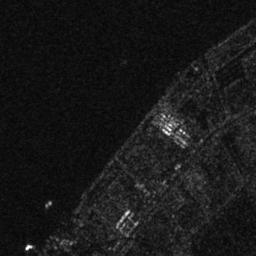ship: (43, 199, 53, 209)
